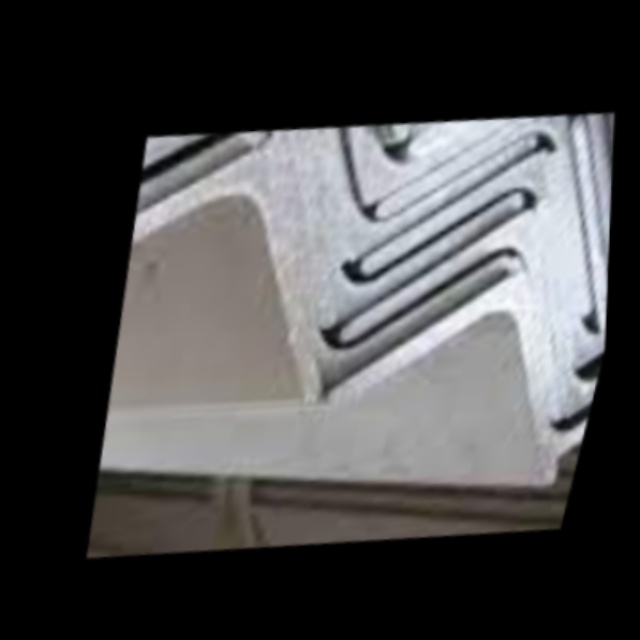Angle: (313, 261, 598, 508), (96, 142, 352, 411), (361, 92, 615, 335), (336, 201, 585, 407), (364, 146, 591, 325), (399, 94, 615, 278), (127, 122, 256, 246), (533, 130, 614, 326), (141, 108, 341, 187)
